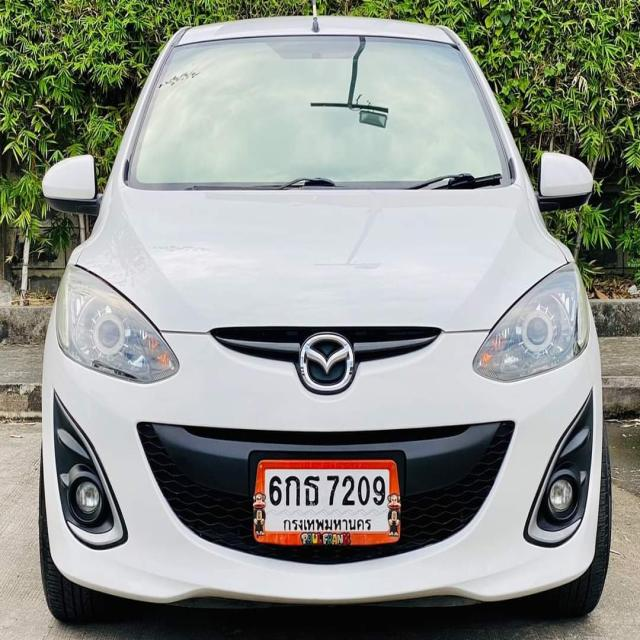license_plate: (248, 454, 405, 554)
